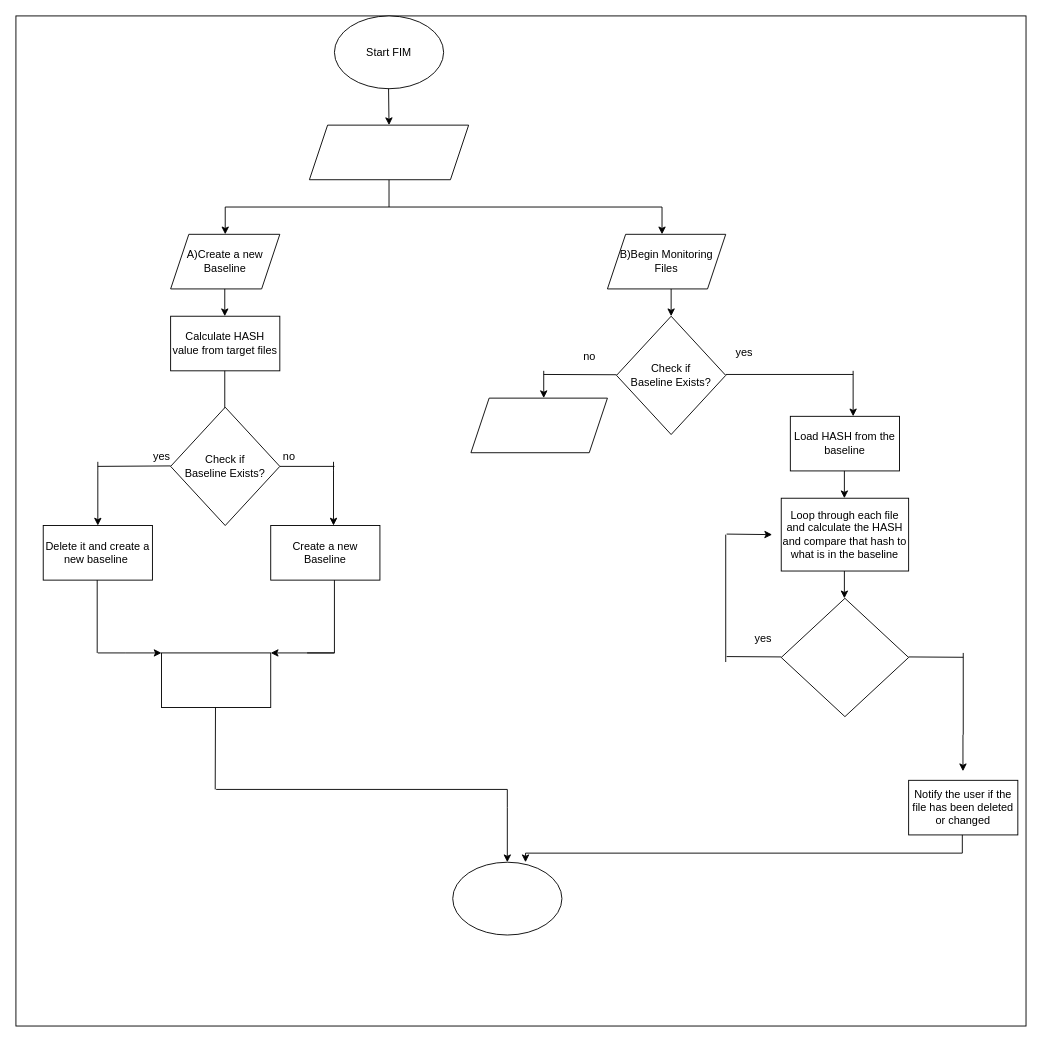
This 1042x1042 diagram has some shape labels left out. Here are the shapes that lost their labels. From the top down, the box of each, then its label:
(308, 124, 469, 180): What would you want to do?
(470, 397, 607, 453): Please create a new baseline
(780, 597, 909, 717): current file HASH matches the HASH in the baseline?
(161, 652, 271, 708): Store it in the baseline
(452, 861, 562, 935): EXIT
